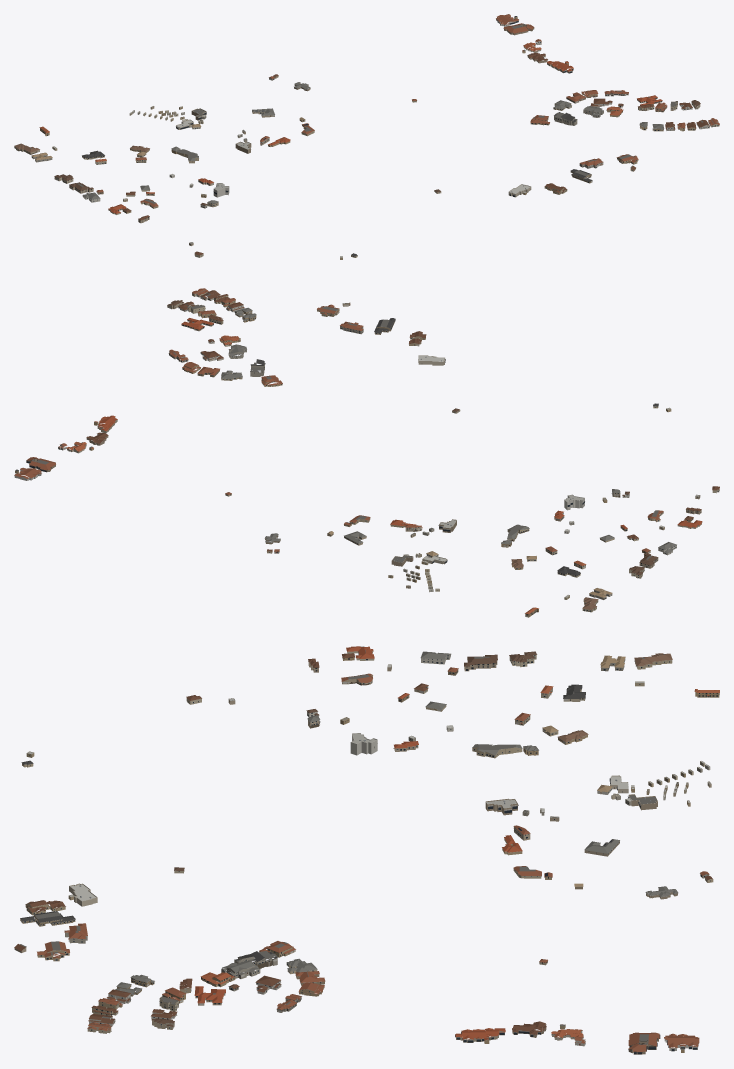
The picture shows the model from 3 angles, top to bottom: view 1: azimuth 30°, elevation 25°; view 2: azimuth 150°, elevation 25°; view 3: azimuth 270°, elevation 25°; orthographic projection. The views are drawn at different scales.
Visible parts, largest first — view 1: buildings_r2_c0_lod0; view 2: buildings_r2_c0_lod0; view 3: buildings_r2_c0_lod0.
Part boxes in pixels (x1,y1,x2,y2): buildings_r2_c0_lod0: (14,14,719,259); buildings_r2_c0_lod0: (14,288,719,617); buildings_r2_c0_lod0: (14,646,719,1054).
Size of the model in its own units: 1128 by 102 by 801.
